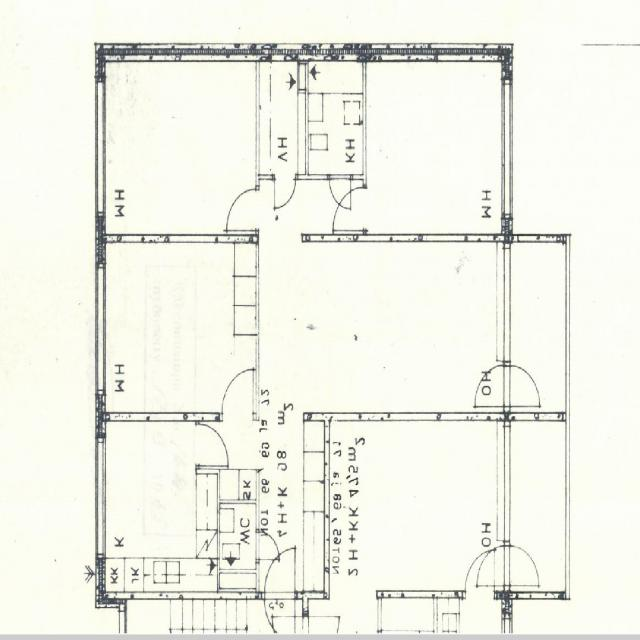door: (222, 370, 254, 420), (265, 549, 295, 599), (265, 591, 295, 640), (332, 188, 367, 230), (504, 366, 540, 406), (475, 366, 511, 406), (226, 189, 259, 231), (274, 174, 296, 208), (330, 175, 350, 208), (256, 532, 279, 560)
